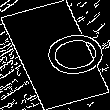O_W: (13, 26, 97, 84)
